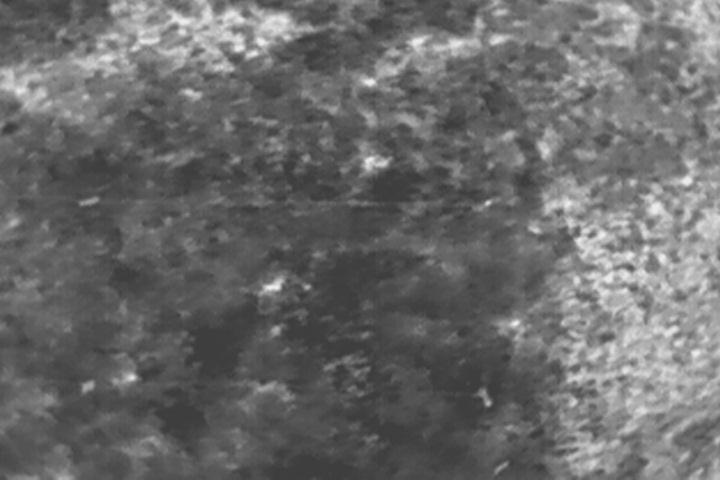landmine: (261, 272, 288, 295)
